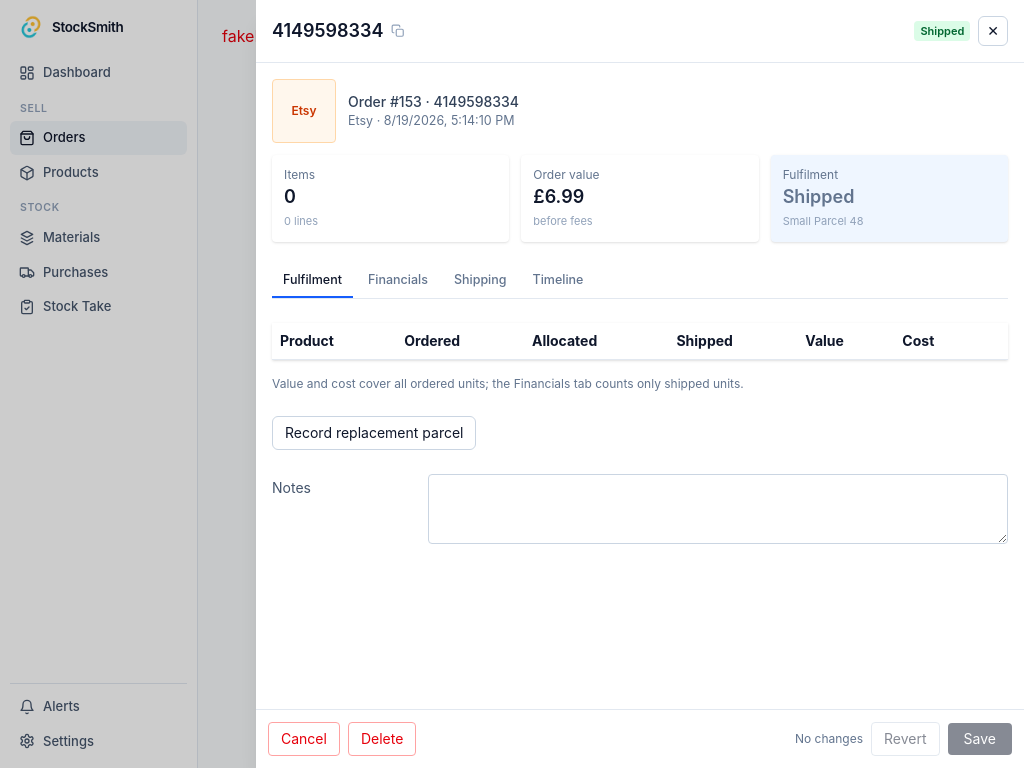
Test case: says nothing about a discount when there wasn't one
Click the button "Financials". click: coordinates (398, 282)
box: [357,266,439,298]
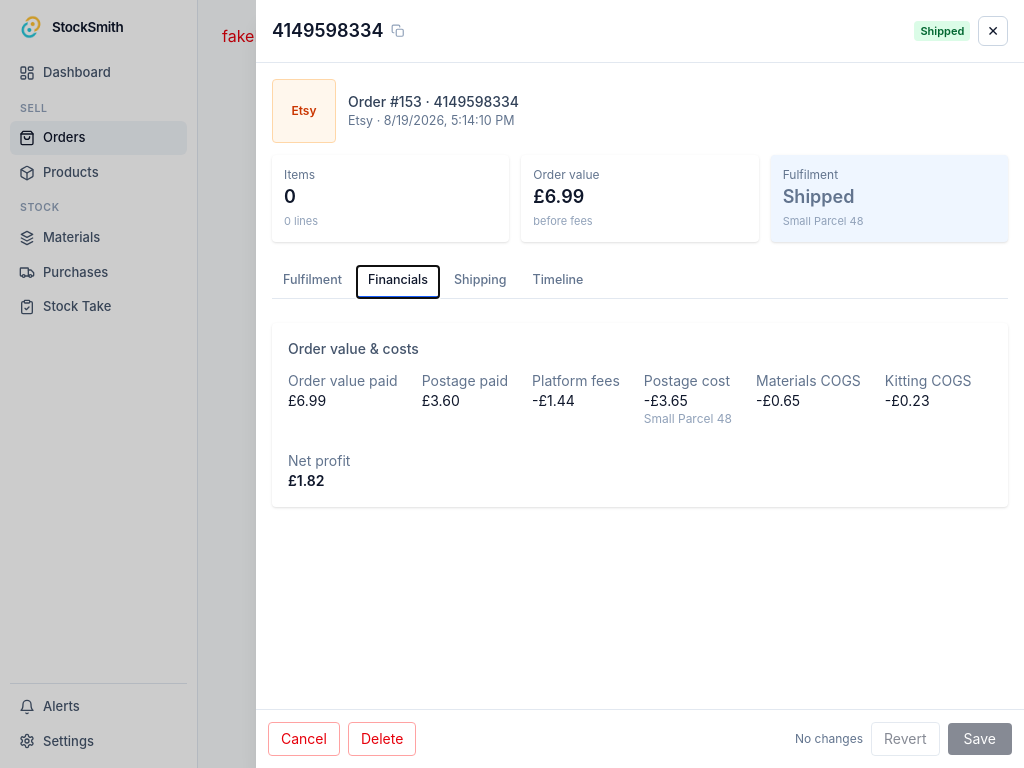
Result: the heading "Order value & costs" is shown at [288,340,419,356]
